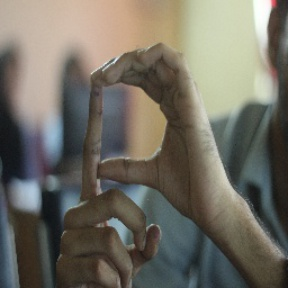D: (78, 42, 200, 201)
